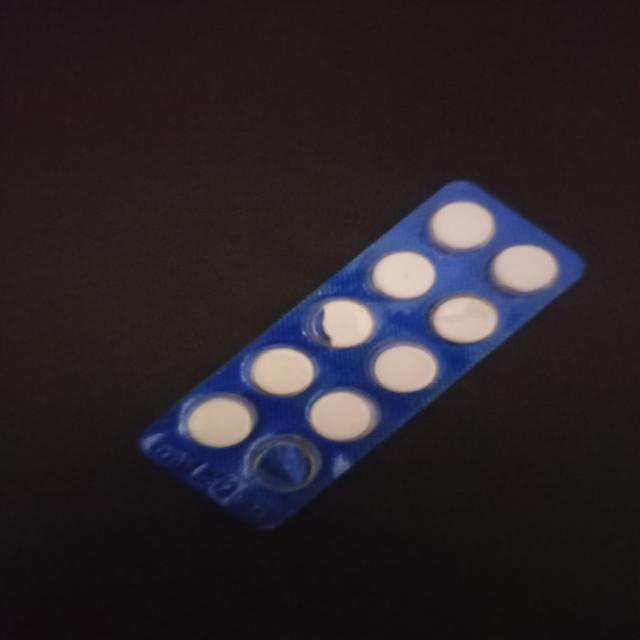defect: (244, 433, 324, 496), (302, 295, 378, 351)
